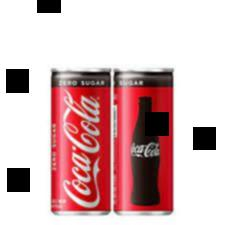cocacola_zero: (49, 65, 113, 218)
